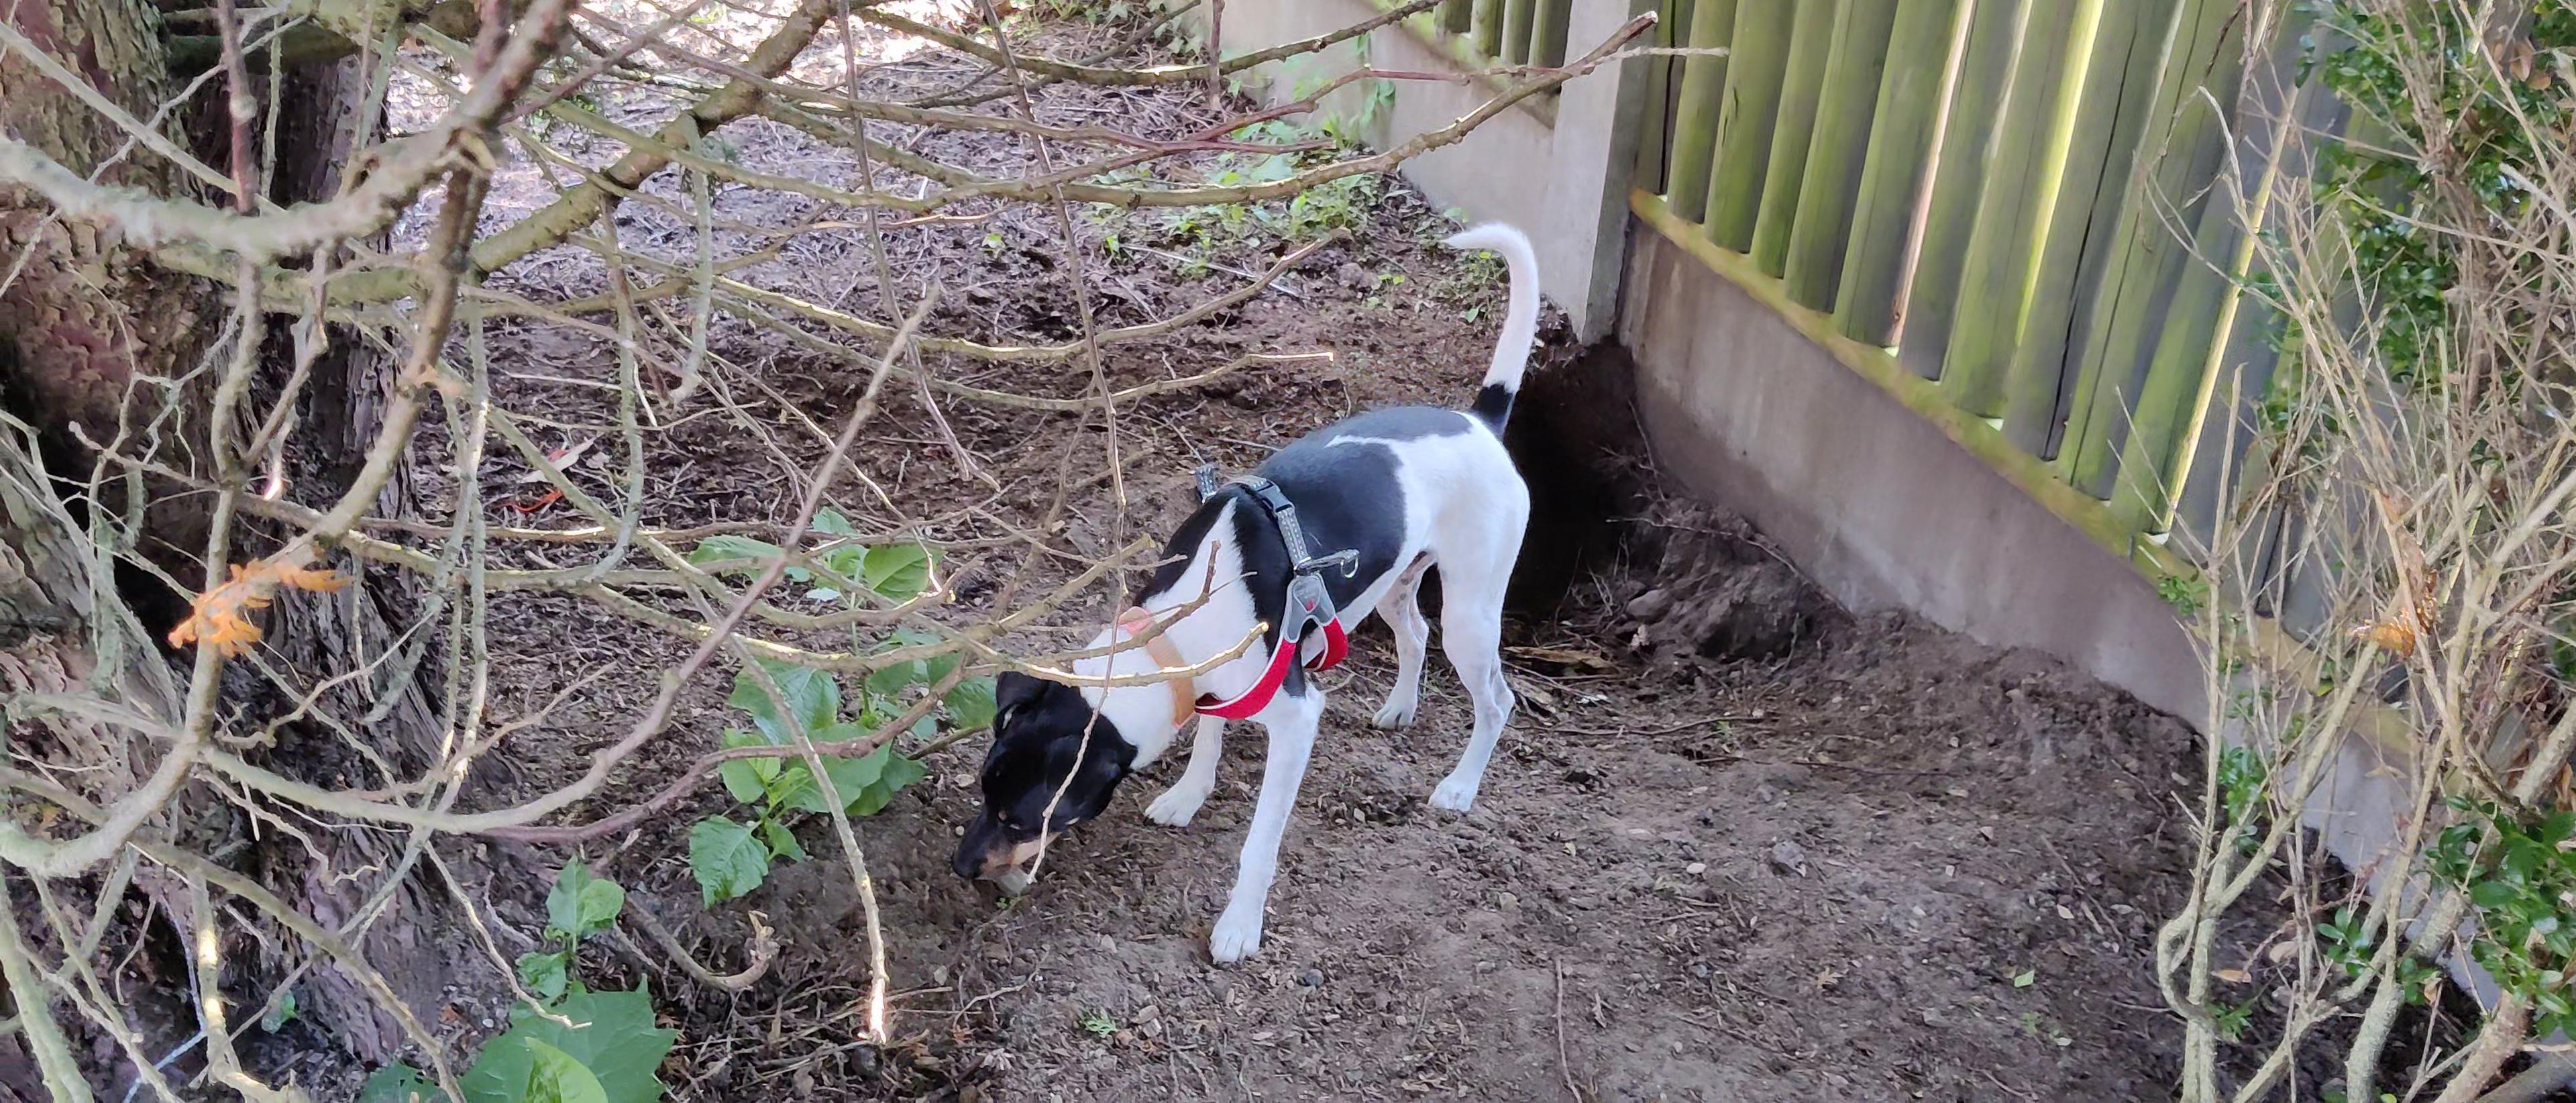Dog: (910, 207, 1567, 976)
